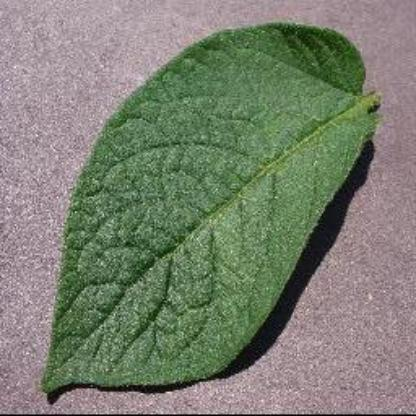Healthy-plant: (40, 18, 378, 396)
